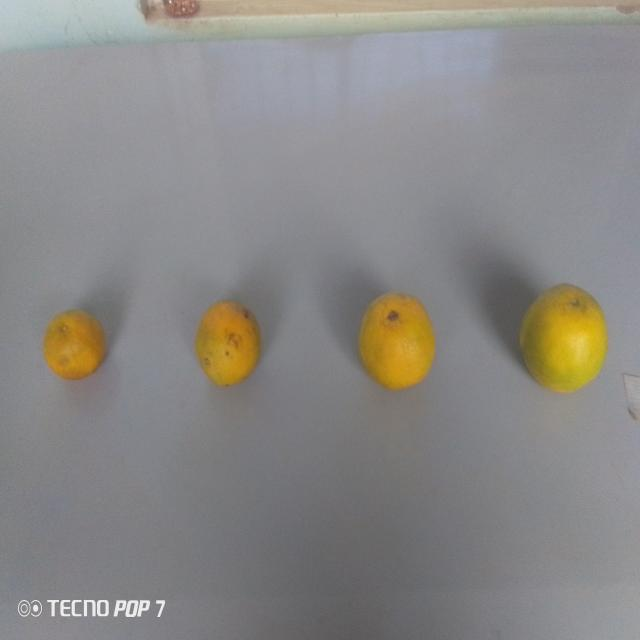Ripe orange: (512, 281, 613, 396), (355, 286, 440, 395), (191, 296, 263, 392), (40, 302, 111, 387)
